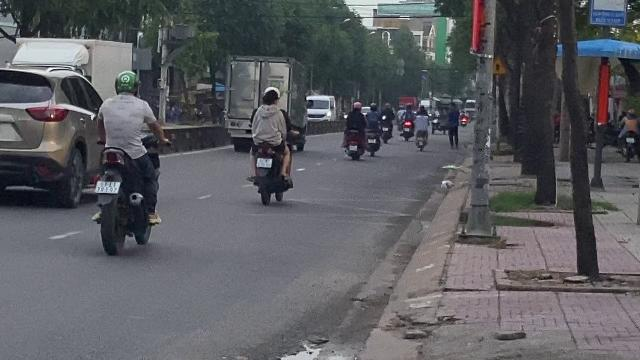helmet: (113, 70, 139, 94)
licenseplate: (95, 180, 118, 192), (256, 158, 272, 166)
motorcyclist: (89, 68, 165, 256), (244, 86, 296, 204)
nohelmet: (260, 88, 280, 108)
